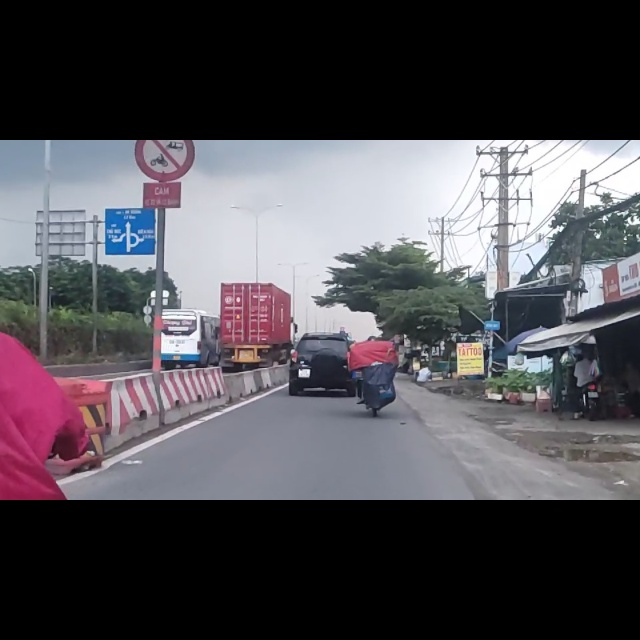bien_chi_dan: (134, 1, 197, 74)
